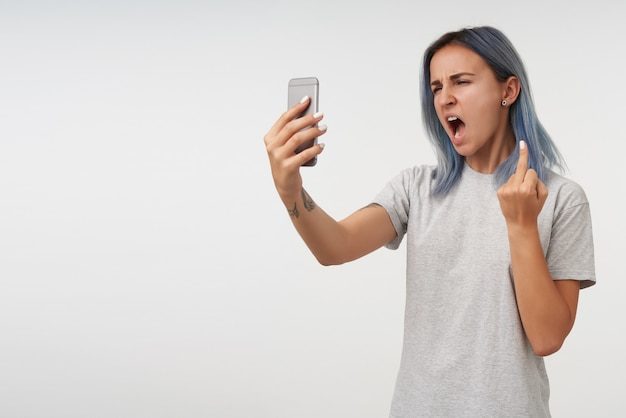insulting_gesture: (495, 139, 551, 230)
